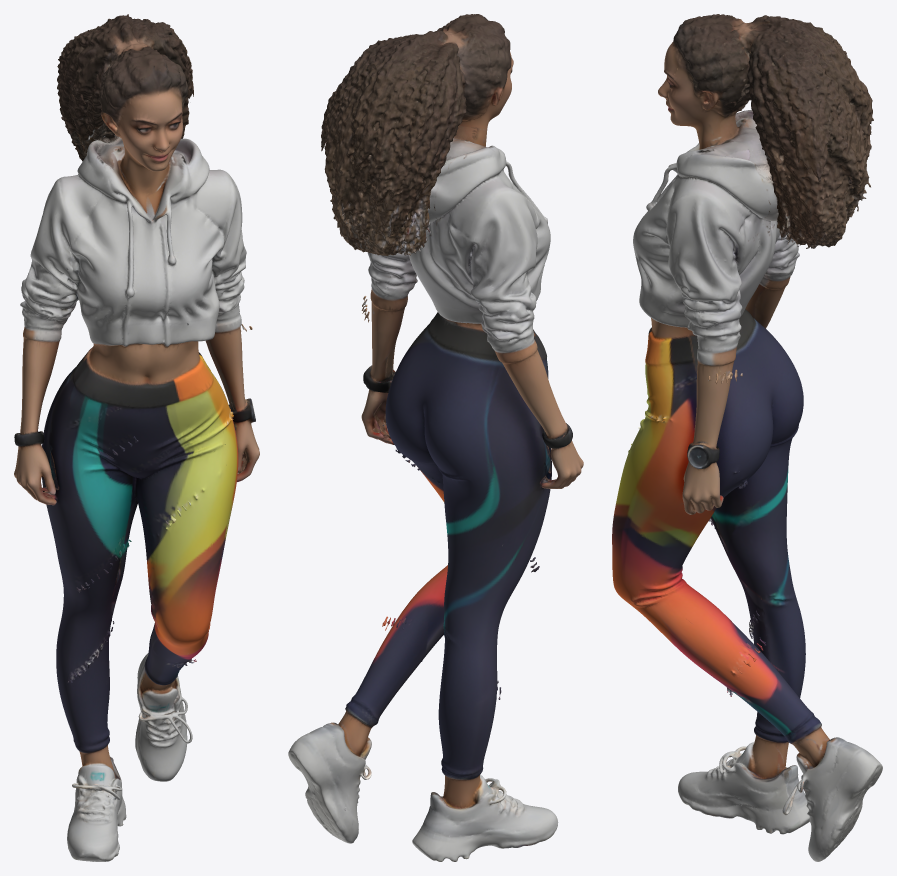
File: sports_athletic.glb
The picture shows the model from 3 angles, left to right: view 1: azimuth 30°, elevation 25°; view 2: azimuth 150°, elevation 25°; view 3: azimuth 270°, elevation 25°; orthographic projection. The views are drawn at different scales.
Bounding box in the file's own units: 0.5559 × 1.9 × 0.5687.
Materials: 1 (1 with a texture image).
